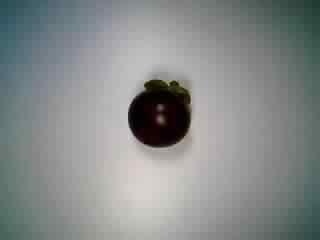mangosteen: (125, 74, 193, 150)
